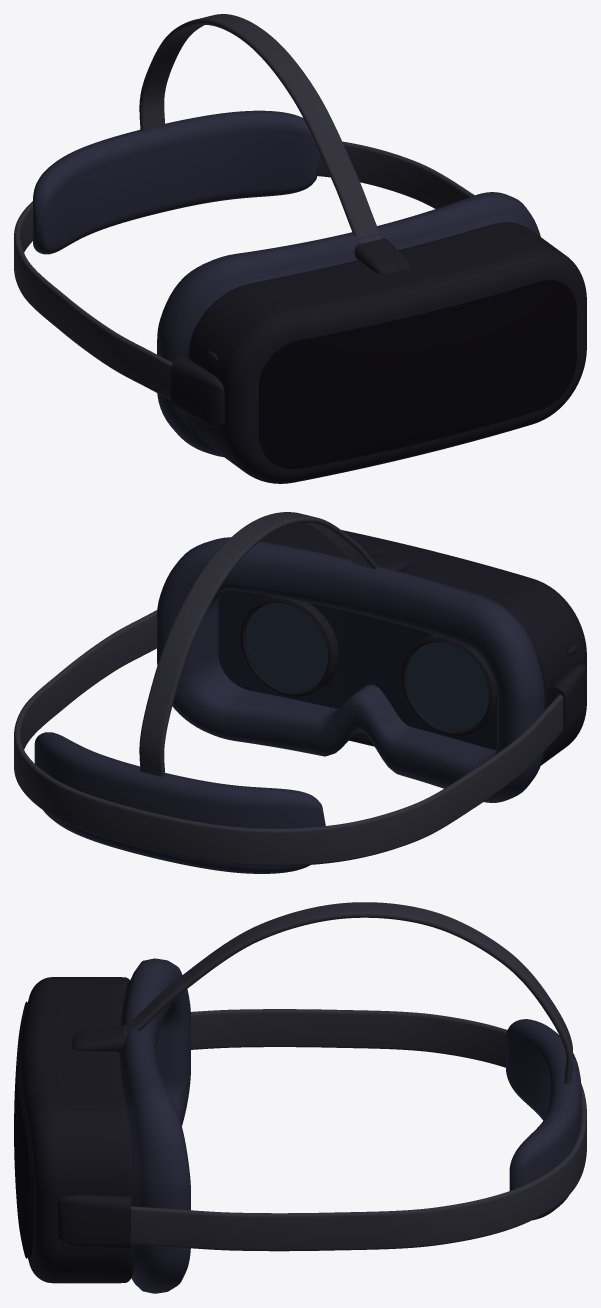
Rendered from visore.glb.
The picture shows the model from 3 angles, top to bottom: view 1: azimuth 30°, elevation 25°; view 2: azimuth 150°, elevation 25°; view 3: azimuth 270°, elevation 25°; orthographic projection.
Visible parts, largest first — view 1: front_panel, body, rear_cushion, face_gasket, rear_strap, top_strap, strap_mount_L, strap_mount; view 2: face_gasket, rear_strap, body, rear_cushion, top_strap, lens_L, lens_R, lens_barrel_R, lens_barrel_L, strap_mount_L; view 3: rear_strap, body, face_gasket, rear_cushion, top_strap, strap_mount_R, front_panel, strap_mount.
Part boxes in pixels (x1=…): front_panel: x1=259, y1=280, x2=576, y2=469; body: x1=188, y1=222, x2=586, y2=483; rear_cushion: x1=33, y1=110, x2=320, y2=254; face_gasket: x1=157, y1=192, x2=540, y2=457; rear_strap: x1=14, y1=141, x2=474, y2=399; top_strap: x1=139, y1=14, x2=381, y2=243; strap_mount_L: x1=171, y1=356, x2=224, y2=427; strap_mount: x1=354, y1=238, x2=410, y2=274; face_gasket: x1=157, y1=537, x2=544, y2=802; rear_strap: x1=14, y1=610, x2=563, y2=866; body: x1=218, y1=523, x2=586, y2=765; rear_cushion: x1=34, y1=732, x2=325, y2=873; top_strap: x1=139, y1=512, x2=378, y2=776; lens_L: x1=406, y1=642, x2=488, y2=730; lens_R: x1=245, y1=603, x2=327, y2=691; lens_barrel_R: x1=240, y1=596, x2=338, y2=696; lens_barrel_L: x1=401, y1=634, x2=496, y2=735; strap_mount_L: x1=546, y1=664, x2=586, y2=737; rear_strap: x1=131, y1=1009, x2=586, y2=1251; body: x1=20, y1=977, x2=135, y2=1283; face_gasket: x1=120, y1=958, x2=190, y2=1293; rear_cushion: x1=506, y1=1019, x2=581, y2=1220; top_strap: x1=124, y1=902, x2=572, y2=1084; strap_mount_R: x1=57, y1=1194, x2=132, y2=1249; front_panel: x1=14, y1=1001, x2=32, y2=1258; strap_mount: x1=72, y1=1025, x2=125, y2=1052.
Bounding box in the file's own units: 1.66 × 1.2 × 1.95.
